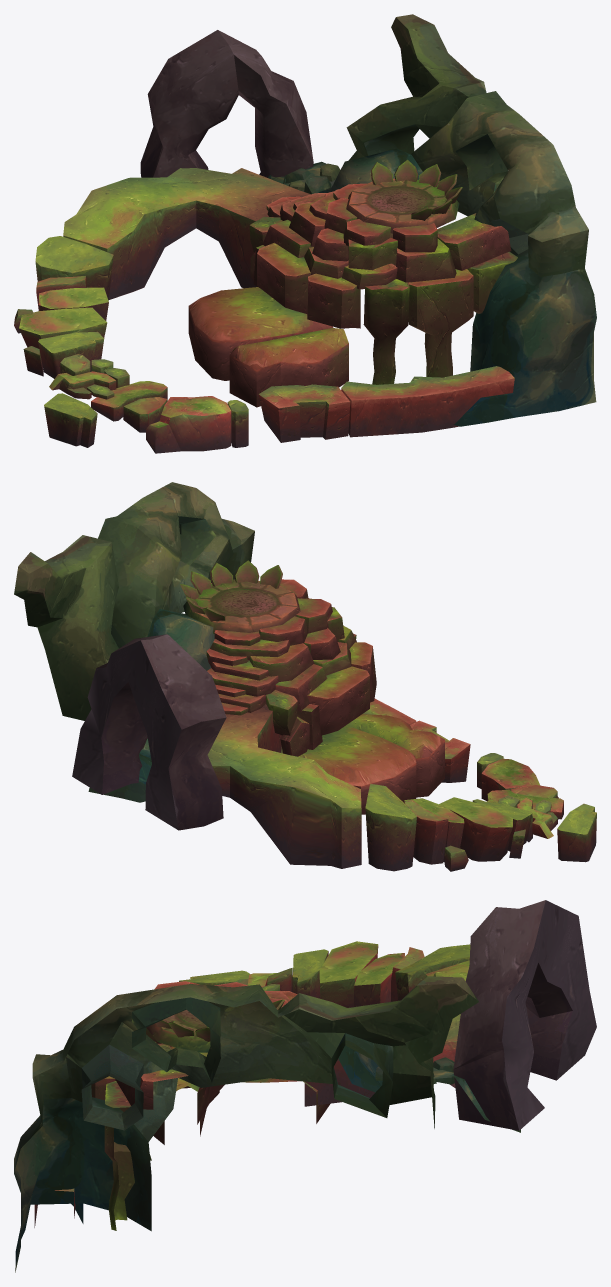
File: lianhuatai01.FBX
3 views of the same model, one above another, from view 1: azimuth 30°, elevation 25°; view 2: azimuth 150°, elevation 25°; view 3: azimuth 270°, elevation 25° (orthographic). The views are drawn at different scales.
Visible parts, largest first — view 1: lianhuatai1, Object02, lianhuatai2, huoguanshizhu3, lianhuatai3; view 2: lianhuatai1, Object02, lianhuatai2, huoguanshizhu3, lianhuatai3; view 3: Object02, huoguanshizhu3, lianhuatai1, lianhuatai2, lianhuatai3.
Part boxes in pixels (x1,y1,x2,y2): lianhuatai1: (14, 168, 514, 453); Object02: (268, 14, 596, 426); lianhuatai2: (188, 183, 517, 407); huoguanshizhu3: (140, 30, 313, 177); lianhuatai3: (346, 159, 462, 233); lianhuatai1: (207, 698, 596, 871); Object02: (14, 482, 254, 802); lianhuatai2: (206, 579, 444, 814); huoguanshizhu3: (72, 634, 226, 830); lianhuatai3: (180, 560, 300, 633); Object02: (14, 976, 520, 1272); huoguanshizhu3: (453, 900, 596, 1130); lianhuatai1: (34, 941, 470, 1227); lianhuatai2: (91, 981, 330, 1230); lianhuatai3: (146, 999, 284, 1052).
Size of the model in its own units: 2908 by 2670 by 1482.
